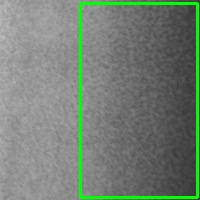pitted_surface: (80, 3, 197, 197)
